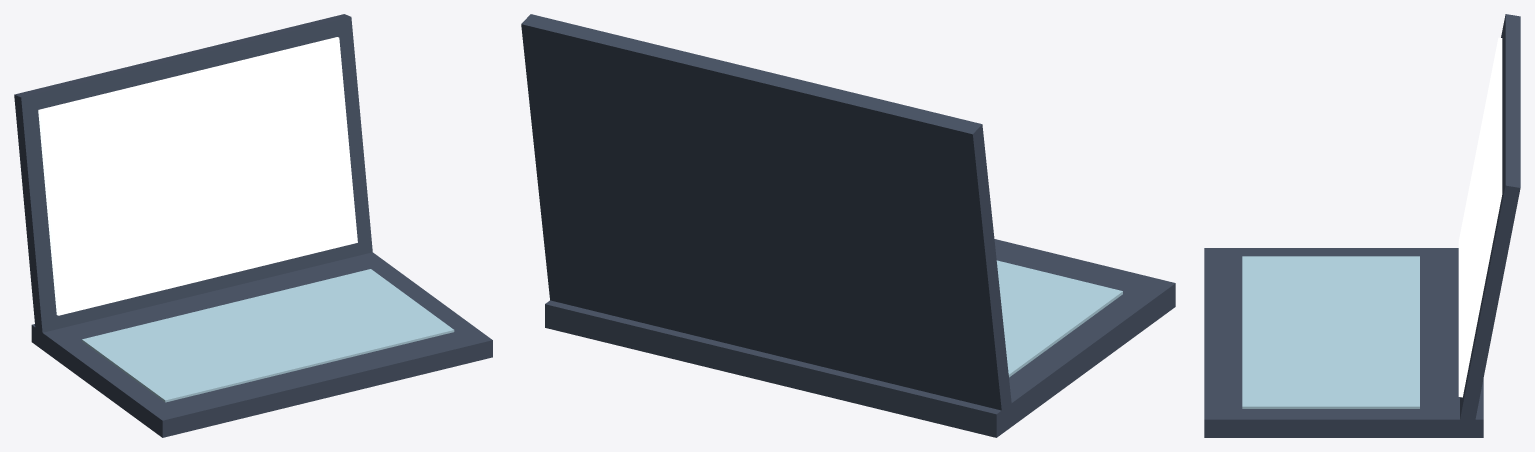
File: laptop.glb
3 views of the same model, side by side, from view 1: azimuth 30°, elevation 25°; view 2: azimuth 150°, elevation 25°; view 3: azimuth 270°, elevation 25° (orthographic). The views are drawn at different scales.
Parts seen in each view (by area): view 1: prop_laptop; view 2: prop_laptop; view 3: prop_laptop.
Part boxes in pixels (x1=…): prop_laptop: x1=14, y1=14, x2=492, y2=437; prop_laptop: x1=521, y1=14, x2=1175, y2=437; prop_laptop: x1=1204, y1=14, x2=1520, y2=437.
Bounding box in the file's own units: 0.32 × 0.2194 × 0.2491.
